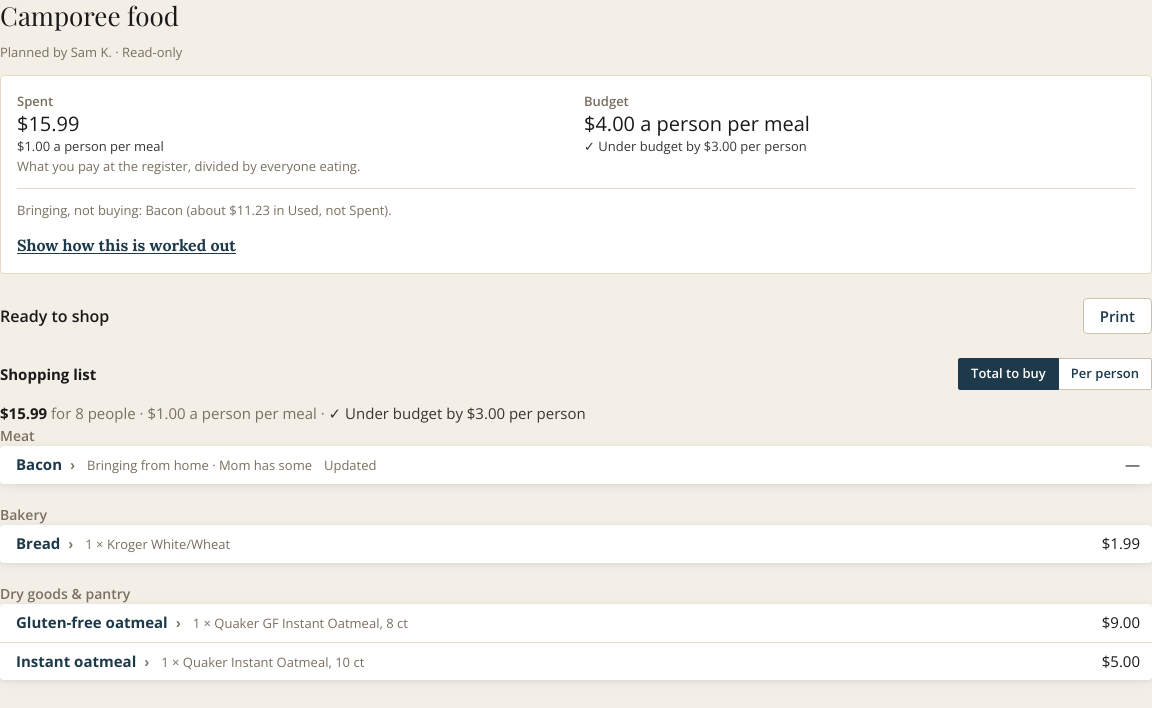
Test: Shopping tab, read-only: where a line comes from › Leader_SeesFromHomeAndTheNote_WhenTheScoutBringsIt
The image size is (1152, 708).
Click the button "Bacon ›" at coordinates (46, 465), box [16,453,75,476]
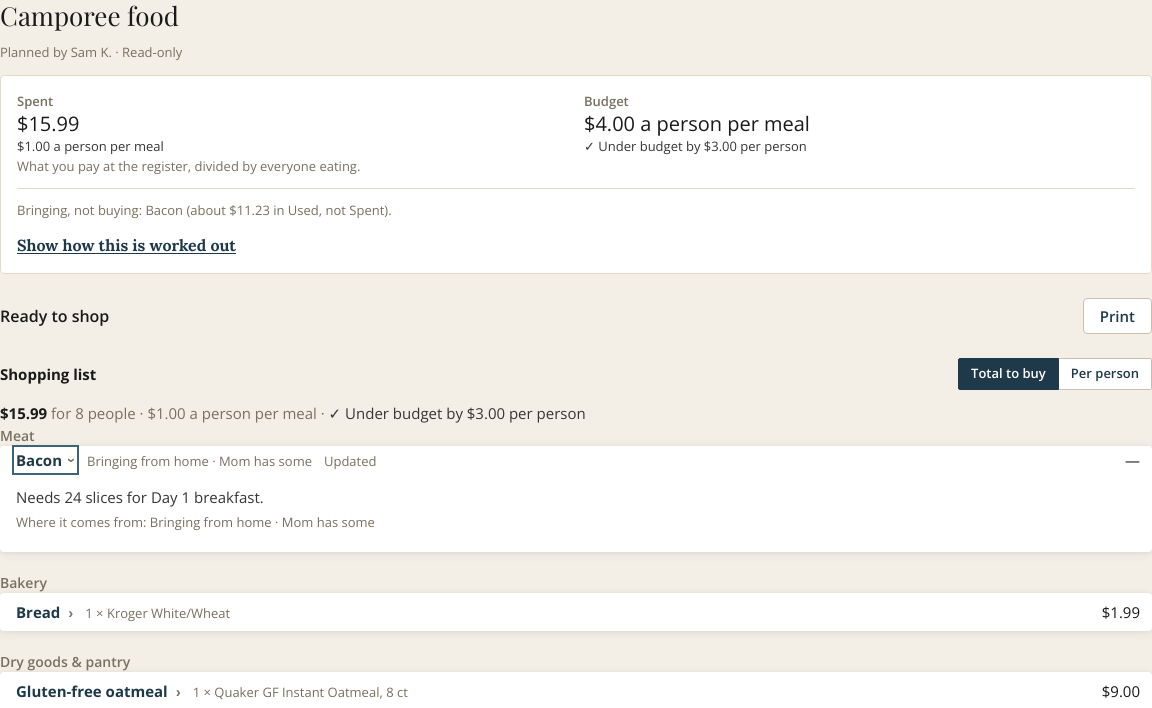
Check: the text "Where it comes from: Bringing from home · Mom has some" is shown, box [16,513,375,531]
